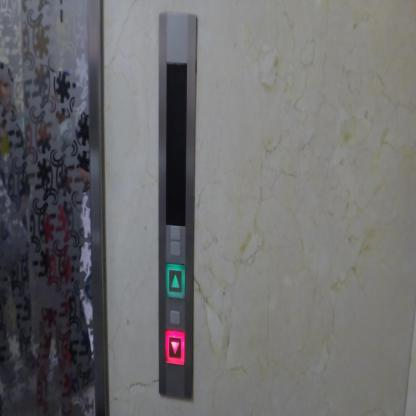down: (164, 326, 186, 368)
led: (164, 56, 188, 230)
up: (163, 258, 187, 301)
